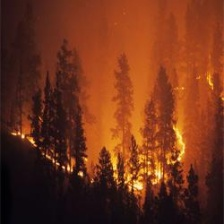fire: (9, 96, 195, 196)
